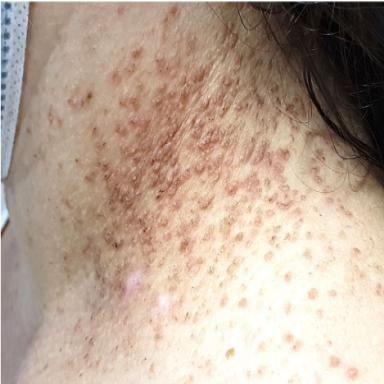Darier_s-Disease: (48, 7, 329, 377)
